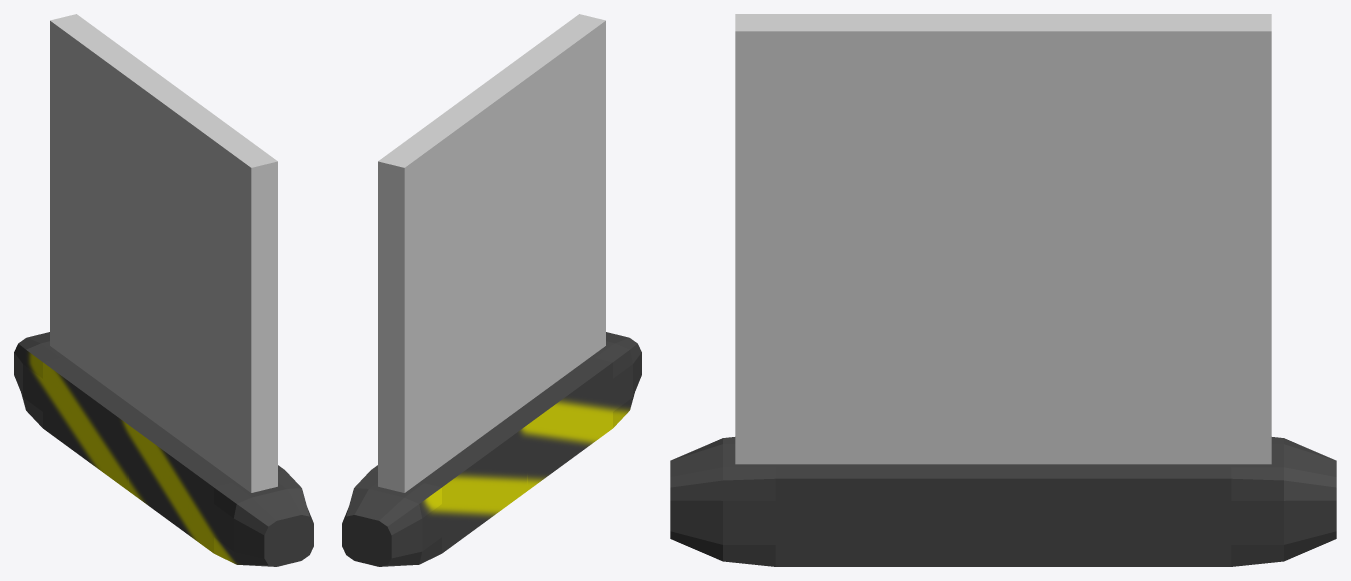
Rendered from Shootnew.fbx.
3 renders of one model, left to right at view 1: azimuth 30°, elevation 25°; view 2: azimuth 150°, elevation 25°; view 3: azimuth 270°, elevation 25°, orthographic. The views are drawn at different scales.
Parts seen in each view (by area): view 1: Cube.001, Cube; view 2: Cube.001, Cube; view 3: Cube.001, Cube.
Boxes of the visible parts, x1,y1,x2,y2 form: Cube.001: (50, 14, 277, 492); Cube: (14, 332, 313, 566); Cube.001: (378, 14, 605, 492); Cube: (342, 332, 641, 566); Cube.001: (735, 14, 1271, 464); Cube: (670, 437, 1336, 566).
Bounding box in the file's own units: 95.35 × 502 × 582.
1 material, 1 textured.
